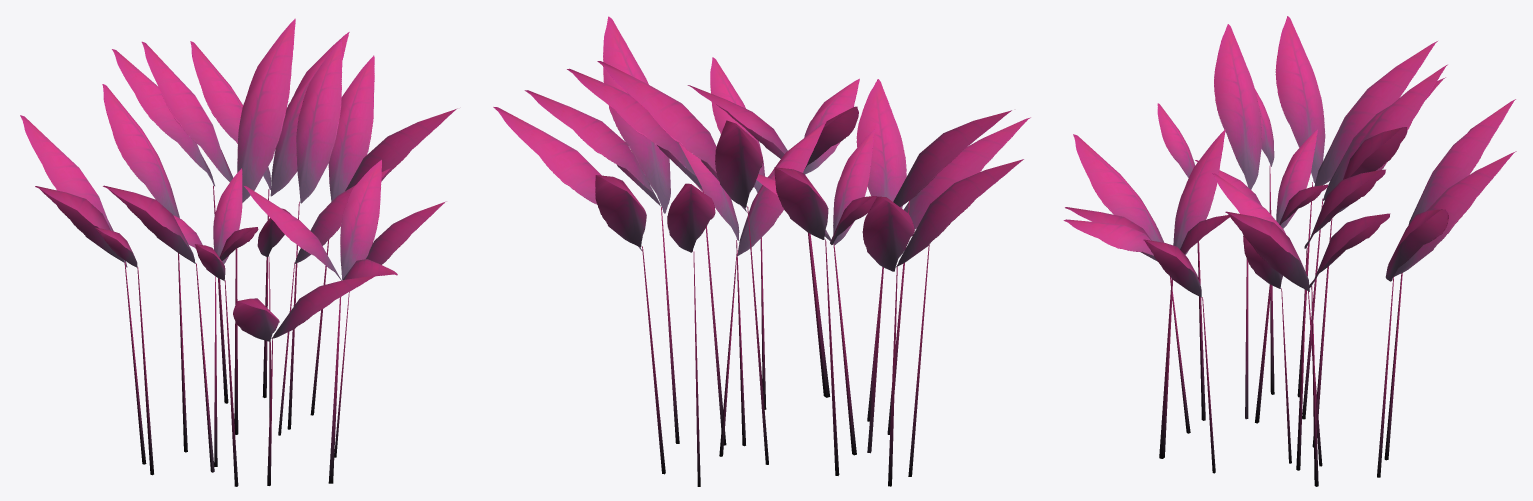
Rendered from Plant_4.gltf.
3 renders of one model, left to right at view 1: azimuth 30°, elevation 25°; view 2: azimuth 150°, elevation 25°; view 3: azimuth 270°, elevation 25°, orthographic. The views are drawn at different scales.
Parts seen in each view (by area): view 1: Plant_4; view 2: Plant_4; view 3: Plant_4.
Part boxes in pixels (x1,y1,x2,y2): Plant_4: (20, 18, 457, 486); Plant_4: (493, 16, 1030, 486); Plant_4: (1063, 16, 1516, 486).
Bounding box in the file's own units: 1.84 × 1.57 × 1.74.
Materials: 1 (1 with a texture image).
